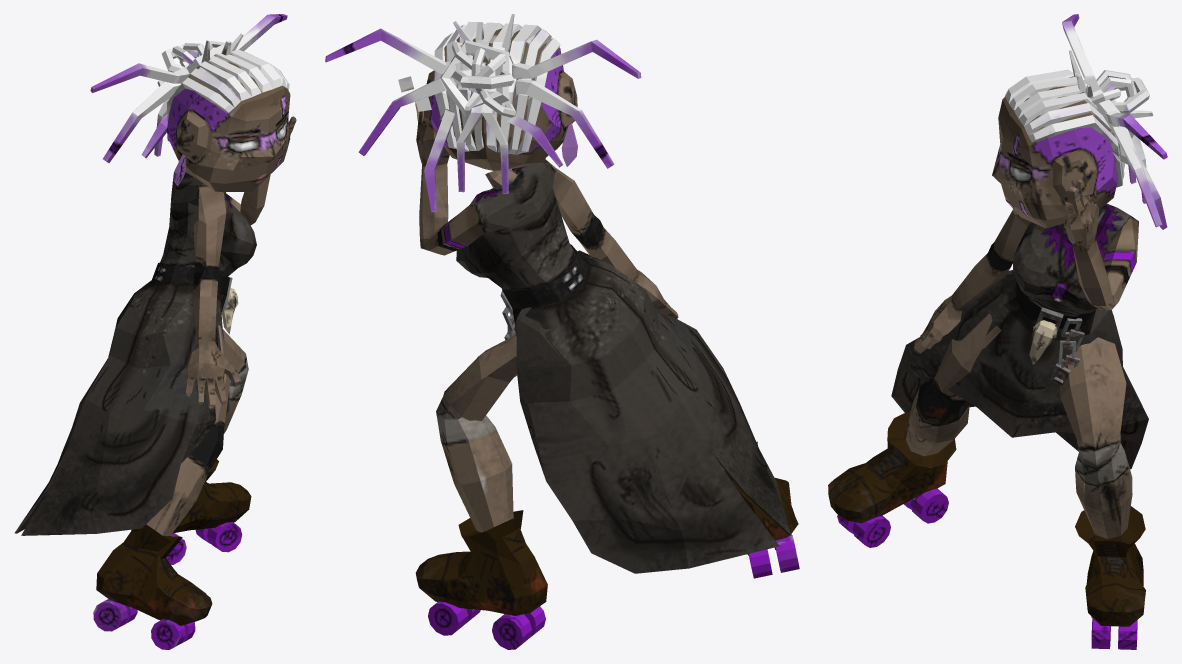
Rendered from bruja_000003.obj.
The picture shows the model from 3 angles, left to right: view 1: azimuth 30°, elevation 25°; view 2: azimuth 150°, elevation 25°; view 3: azimuth 270°, elevation 25°; orthographic projection. The views are drawn at different scales.
Visible parts, largest first — view 1: Bruja_Plane.001; view 2: Bruja_Plane.001; view 3: Bruja_Plane.001.
Boxes of the visible parts, <box> form: Bruja_Plane.001: <box>14,14,296,649</box>; Bruja_Plane.001: <box>325,14,799,649</box>; Bruja_Plane.001: <box>828,14,1167,649</box>.
Bounding box in the file's own units: 10.23 × 15.34 × 8.12.
